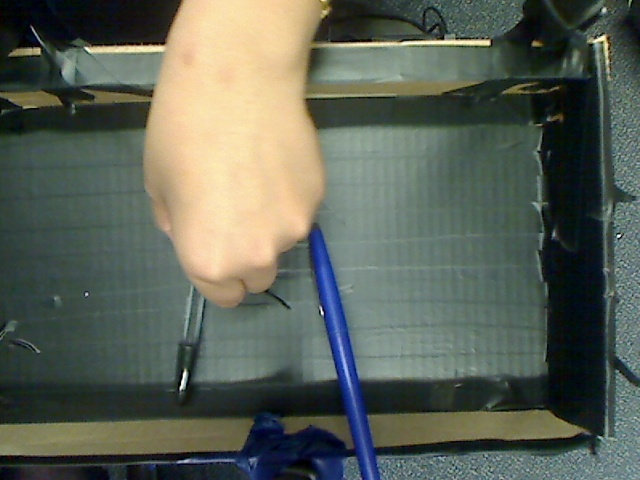pen: (287, 199, 406, 480)
